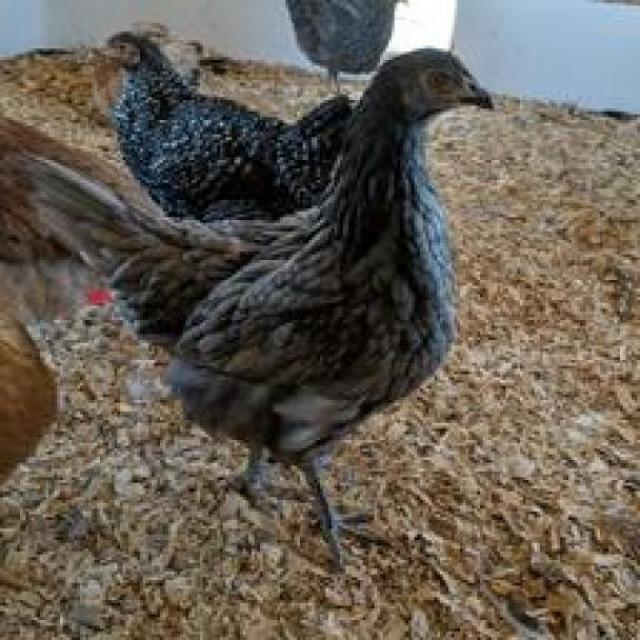Chicken: (92, 49, 551, 572)
